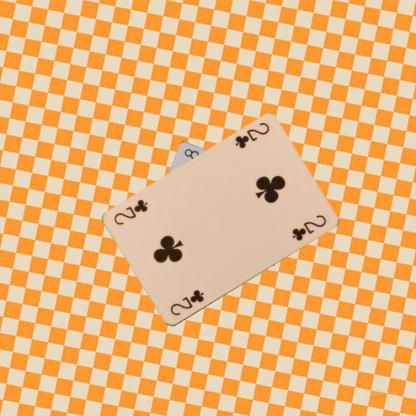2c: (167, 287, 205, 318), (232, 120, 271, 150)
